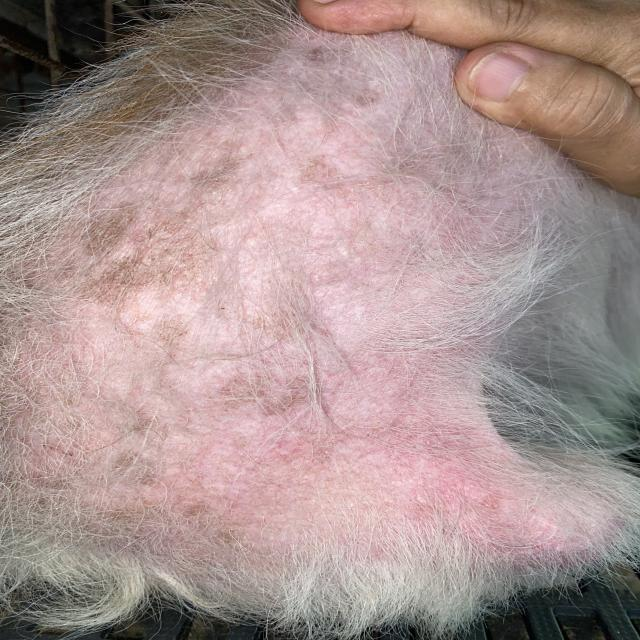demodicosis: (70, 98, 516, 352), (42, 391, 524, 599)
